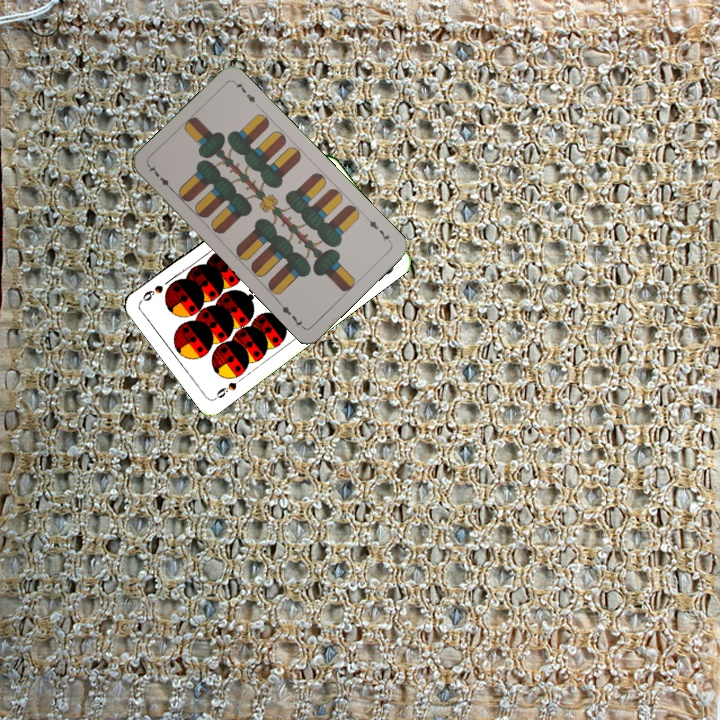E7: (145, 161, 177, 194), (362, 213, 394, 245)
S9: (210, 378, 239, 403)
